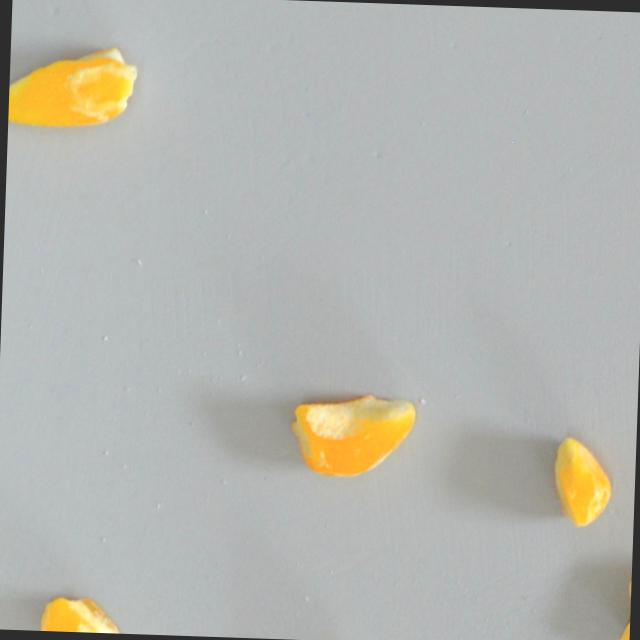pelicula: (14, 10, 100, 179), (312, 364, 402, 498), (531, 444, 628, 514), (28, 594, 131, 634), (608, 562, 632, 640)
